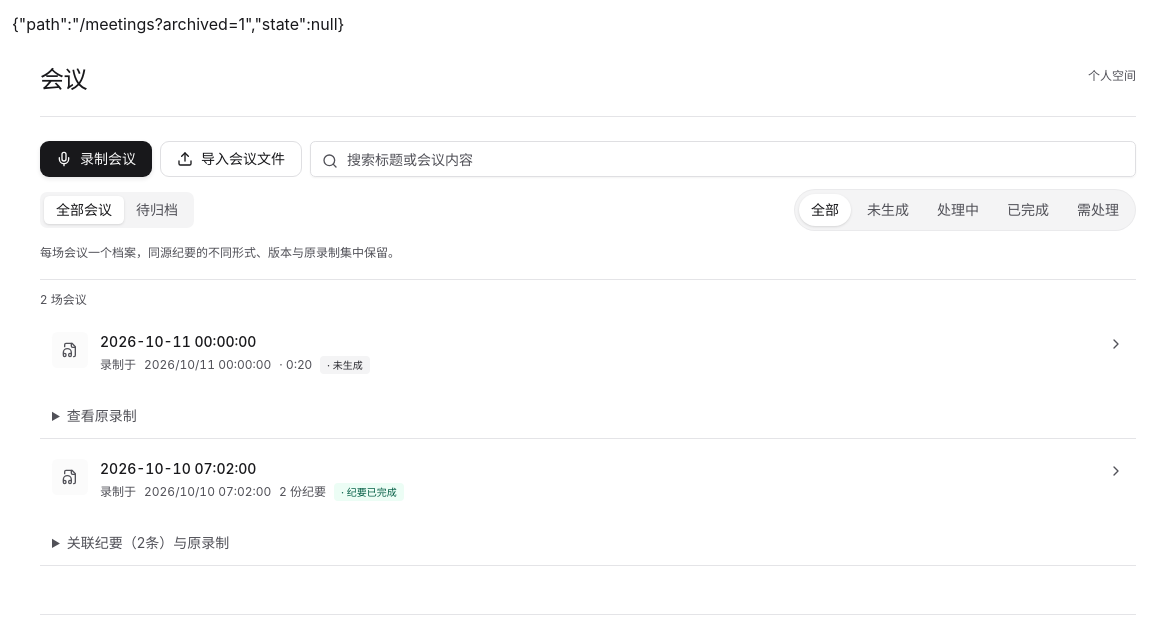
Test: keeps old and new archive flags inside one dossier and out of pending association
Click the heading "关联纪要（2条）与原录制". click: coordinates (148, 542)
box: [67,534,229,551]
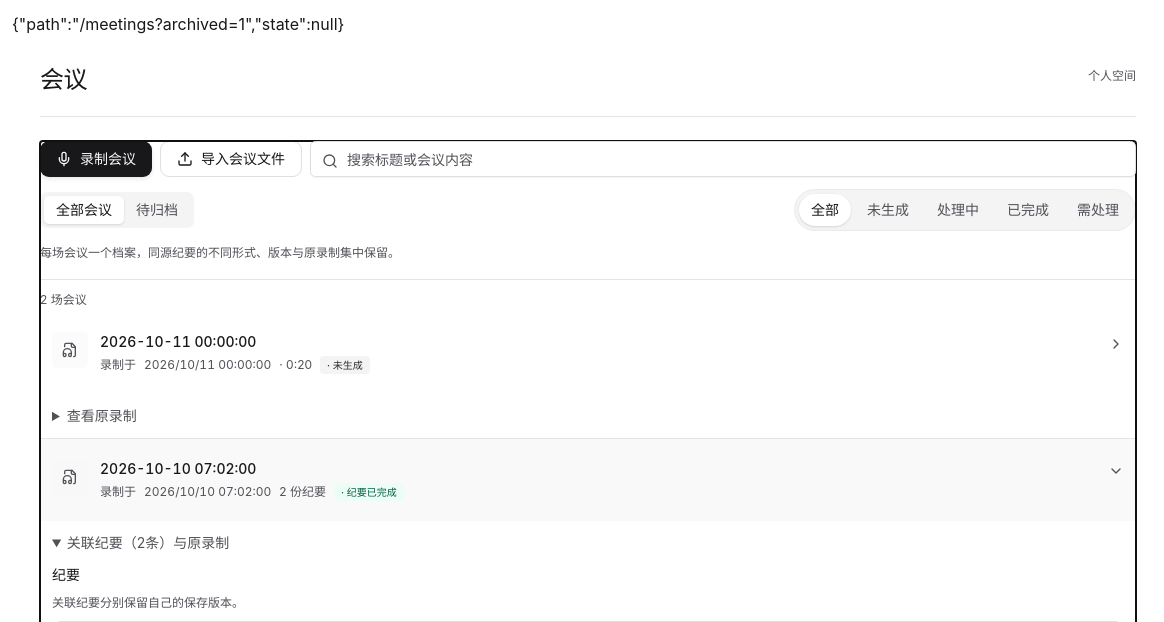
Click the tab "待归档". click: coordinates (157, 210)
box: [124,196,190,224]
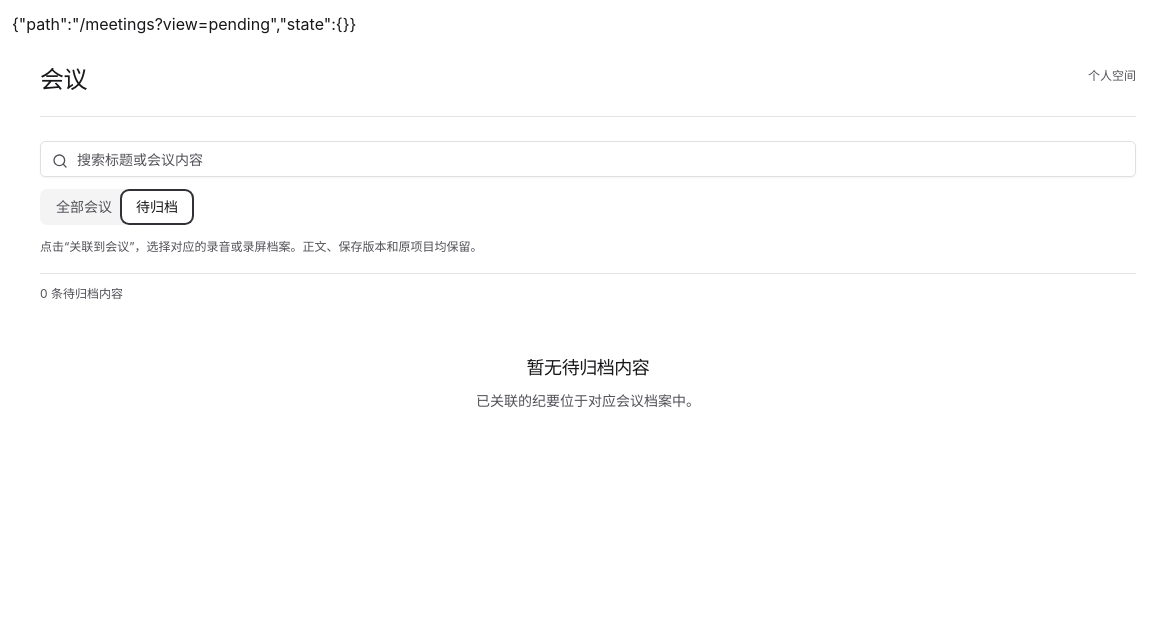
Expected: the text "暂无待归档内容" is shown, [527,354,650,382]
